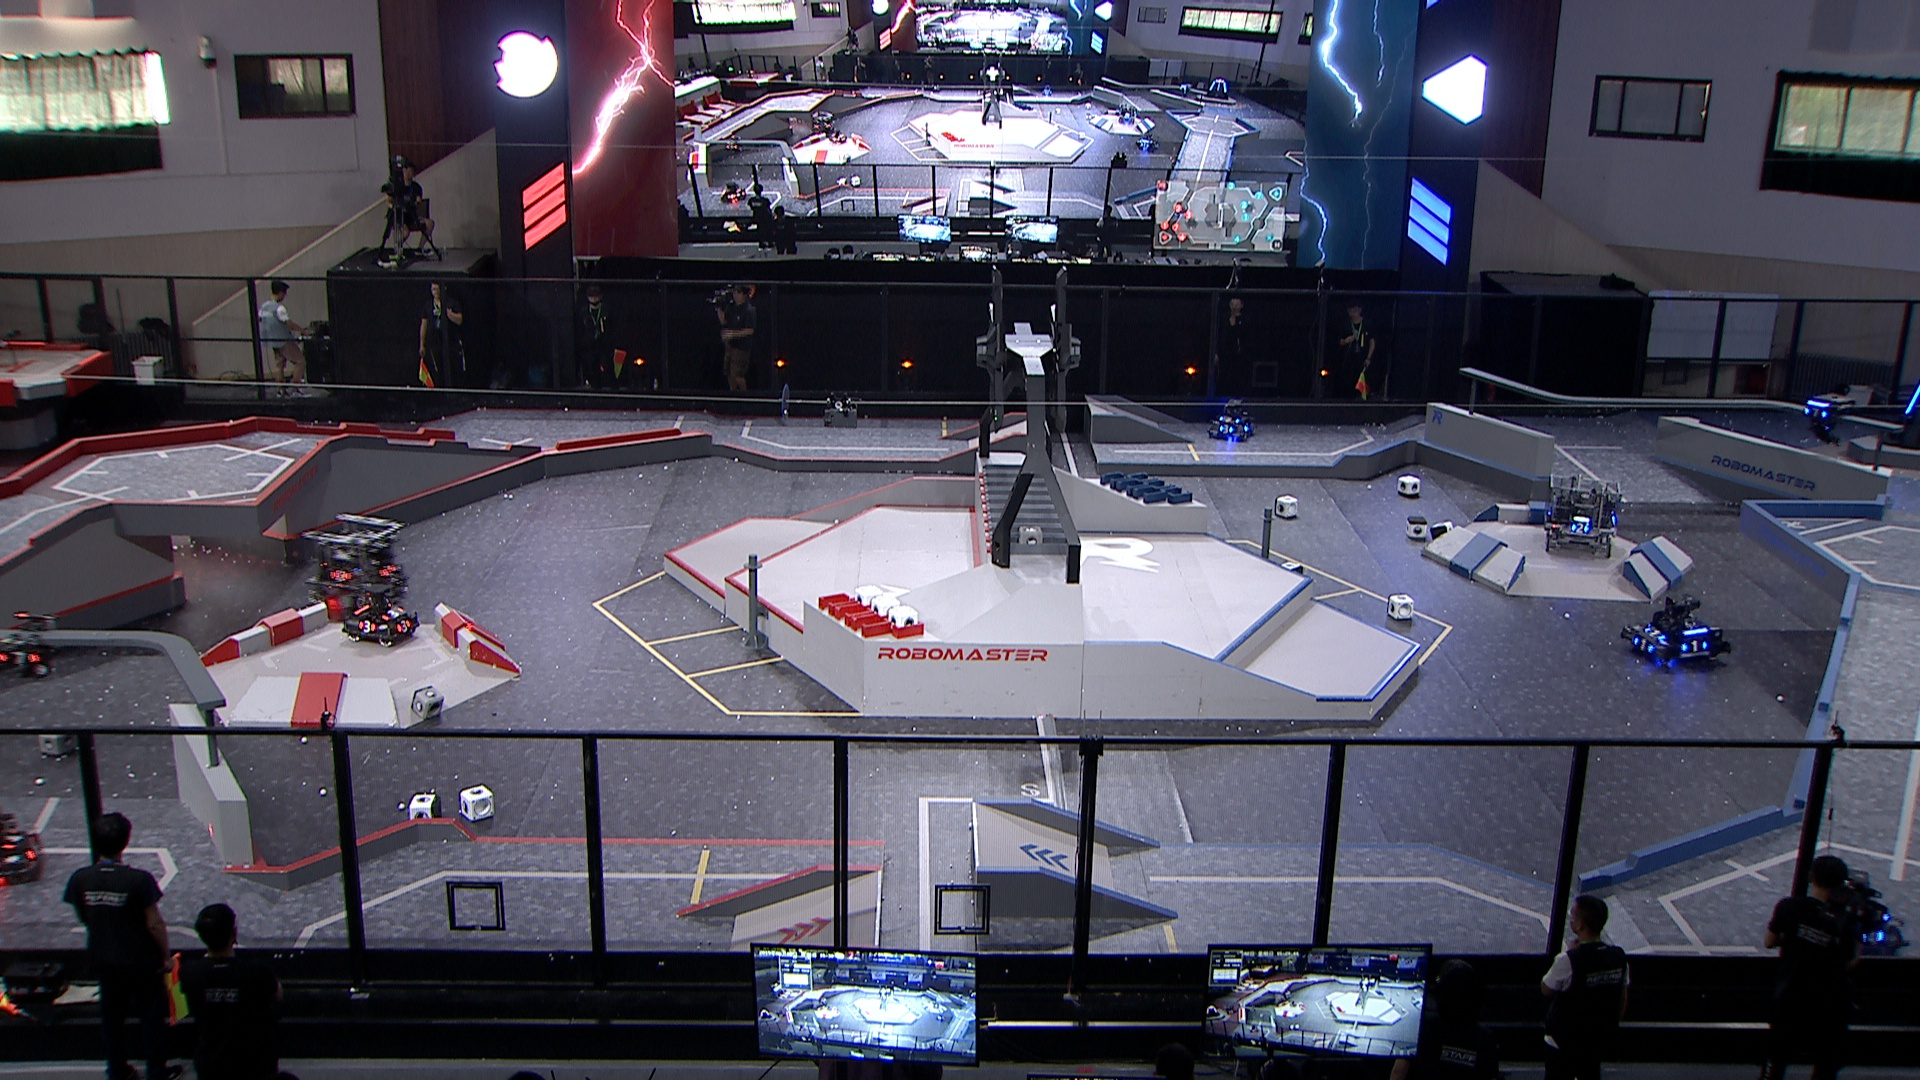armor: (1902, 384, 1920, 415), (22, 833, 40, 861), (3, 829, 24, 851), (1681, 637, 1712, 651), (327, 567, 352, 584), (1643, 624, 1667, 641), (353, 618, 377, 636), (1631, 638, 1656, 654), (377, 560, 400, 578), (381, 605, 405, 621), (1859, 928, 1884, 943), (1804, 405, 1828, 418), (394, 616, 411, 633), (1571, 522, 1590, 534), (1220, 414, 1240, 425), (1218, 423, 1234, 436)
base: (1882, 368, 1920, 458)
car: (301, 510, 405, 603), (1797, 873, 1909, 957), (1617, 591, 1735, 669), (1542, 469, 1625, 556), (342, 579, 419, 647), (1205, 404, 1258, 443)
ignore: (808, 107, 835, 138), (1131, 131, 1160, 156), (717, 181, 746, 204), (1205, 79, 1233, 102)
watcher: (1803, 390, 1855, 447)
